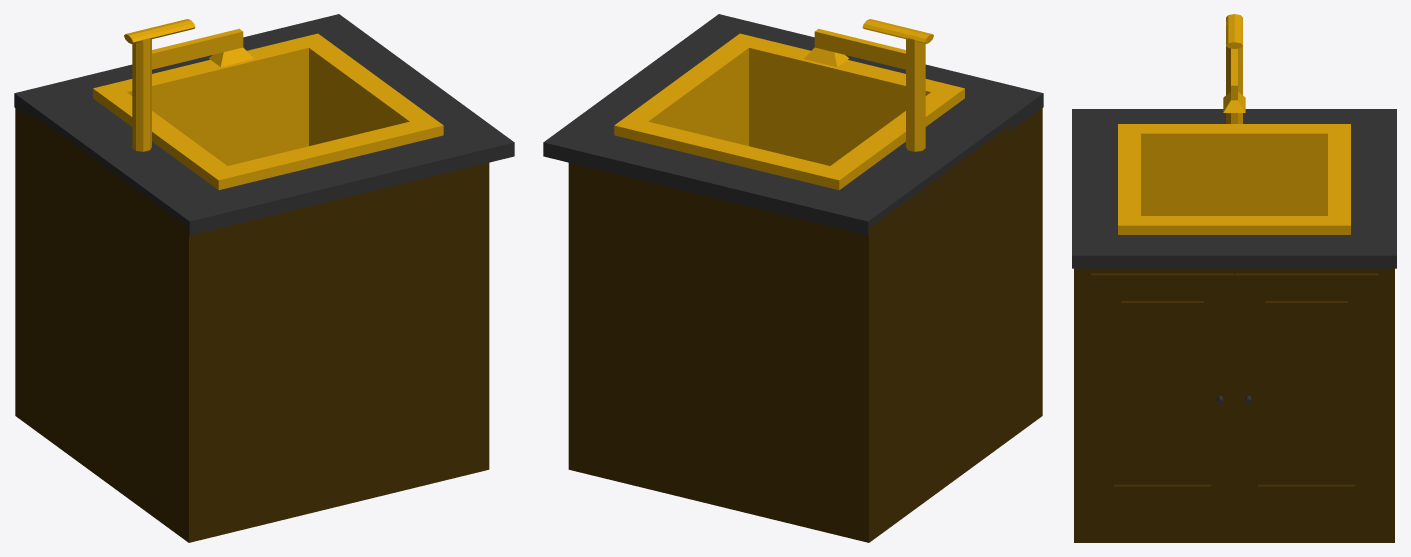
Rendered from kitchen sink.fbx.
3 views of the same model, side by side, from view 1: azimuth 30°, elevation 25°; view 2: azimuth 150°, elevation 25°; view 3: azimuth 270°, elevation 25° (orthographic). The views are drawn at different scales.
Parts seen in each view (by area): view 1: pCube1, pCube3, pCube2, pCylinder2, pCylinder3; view 2: pCube1, pCube3, pCube2, pCylinder2, pCylinder3; view 3: polySurface3, pCube1, pCube2, pCube3, pCylinder2, pCylinder3.
Boxes of the visible parts, x1=… form: pCube1: x1=15, y1=108, x2=489, y2=542; pCube3: x1=93, y1=33, x2=443, y2=190; pCube2: x1=14, y1=14, x2=514, y2=235; pCylinder2: x1=132, y1=28, x2=253, y2=151; pCylinder3: x1=124, y1=19, x2=195, y2=43; pCube1: x1=568, y1=108, x2=1042, y2=542; pCube3: x1=614, y1=33, x2=964, y2=190; pCube2: x1=543, y1=14, x2=1043, y2=235; pCylinder2: x1=804, y1=28, x2=925, y2=151; pCylinder3: x1=862, y1=19, x2=933, y2=43; polySurface3: x1=1090, y1=273, x2=1378, y2=507; pCube1: x1=1074, y1=268, x2=1394, y2=542; pCube2: x1=1072, y1=109, x2=1396, y2=268; pCube3: x1=1118, y1=124, x2=1350, y2=234; pCylinder2: x1=1223, y1=22, x2=1245, y2=123; pCylinder3: x1=1226, y1=14, x2=1242, y2=48.
Size of the model in its own units: 4.54 by 5.84 by 4.24.
